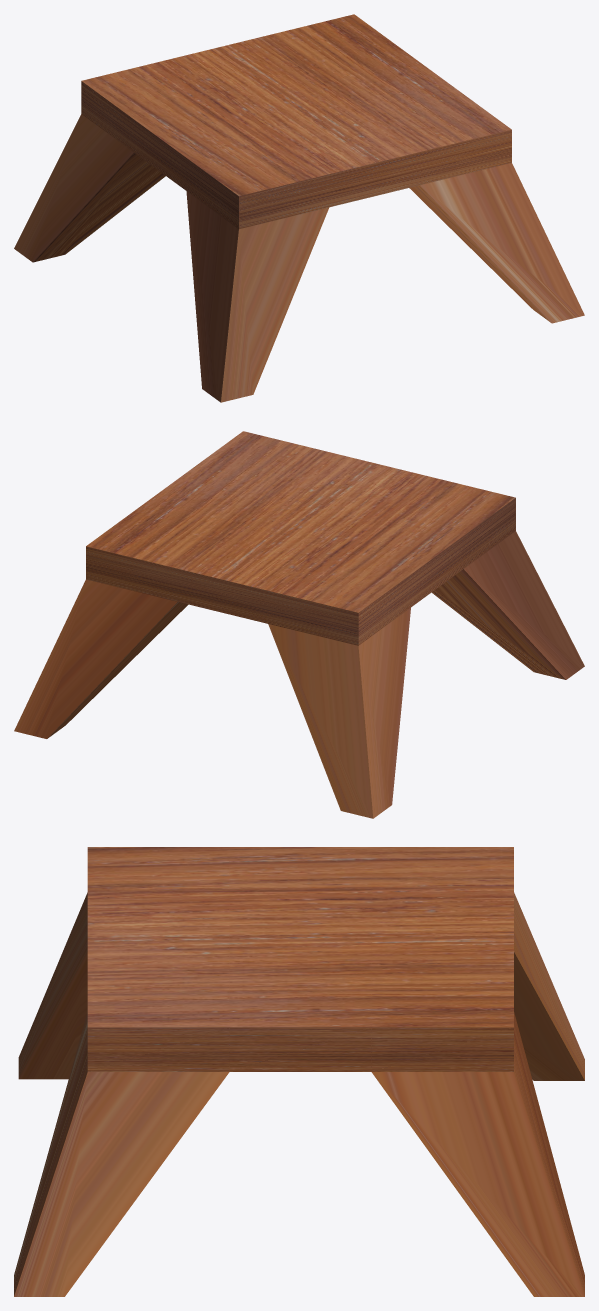
The model's file is table_wood_texture.glb.
3 views of the same model, one above another, from view 1: azimuth 30°, elevation 25°; view 2: azimuth 150°, elevation 25°; view 3: azimuth 270°, elevation 25° (orthographic). The views are drawn at different scales.
Visible parts, largest first — view 1: Table; view 2: Table; view 3: Table.
Part boxes in pixels (x1,y1,x2,y2): Table: [14, 14, 584, 402]; Table: [14, 431, 584, 818]; Table: [14, 847, 584, 1296].
Bounding box in the file's own units: 7.88 × 3.68 × 7.95.
Materials: 1 (1 with a texture image).
